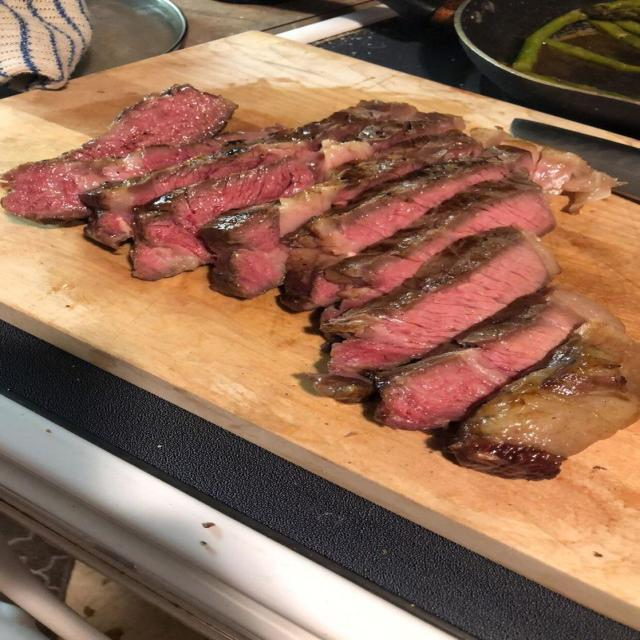beef steak: (200, 133, 462, 298), (325, 225, 558, 379), (280, 159, 506, 311), (374, 288, 608, 431), (130, 141, 372, 279), (329, 174, 554, 315), (449, 320, 639, 480), (135, 141, 327, 279), (82, 143, 283, 249), (1, 144, 194, 221), (60, 85, 236, 160), (496, 133, 622, 212), (263, 101, 414, 146), (356, 113, 463, 158), (169, 178, 197, 190)
